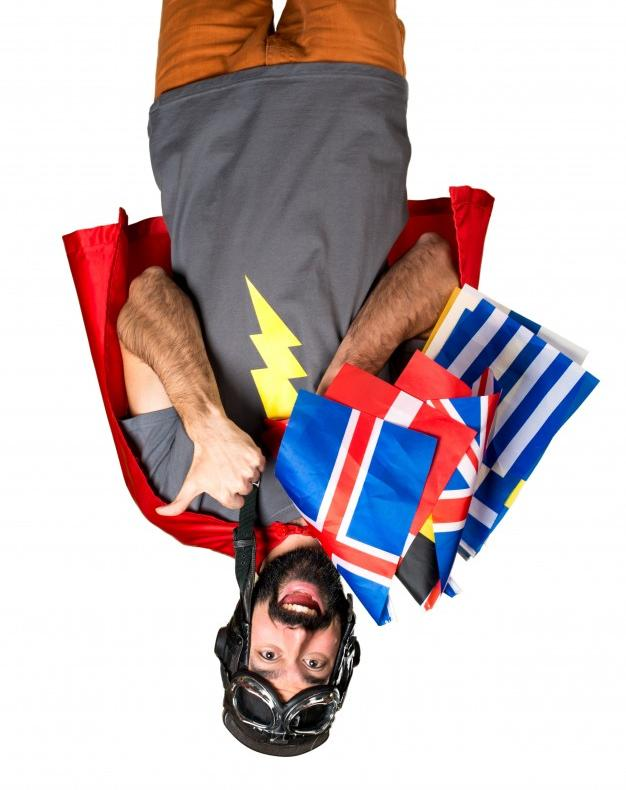thumbsdown: (155, 450, 268, 517)
